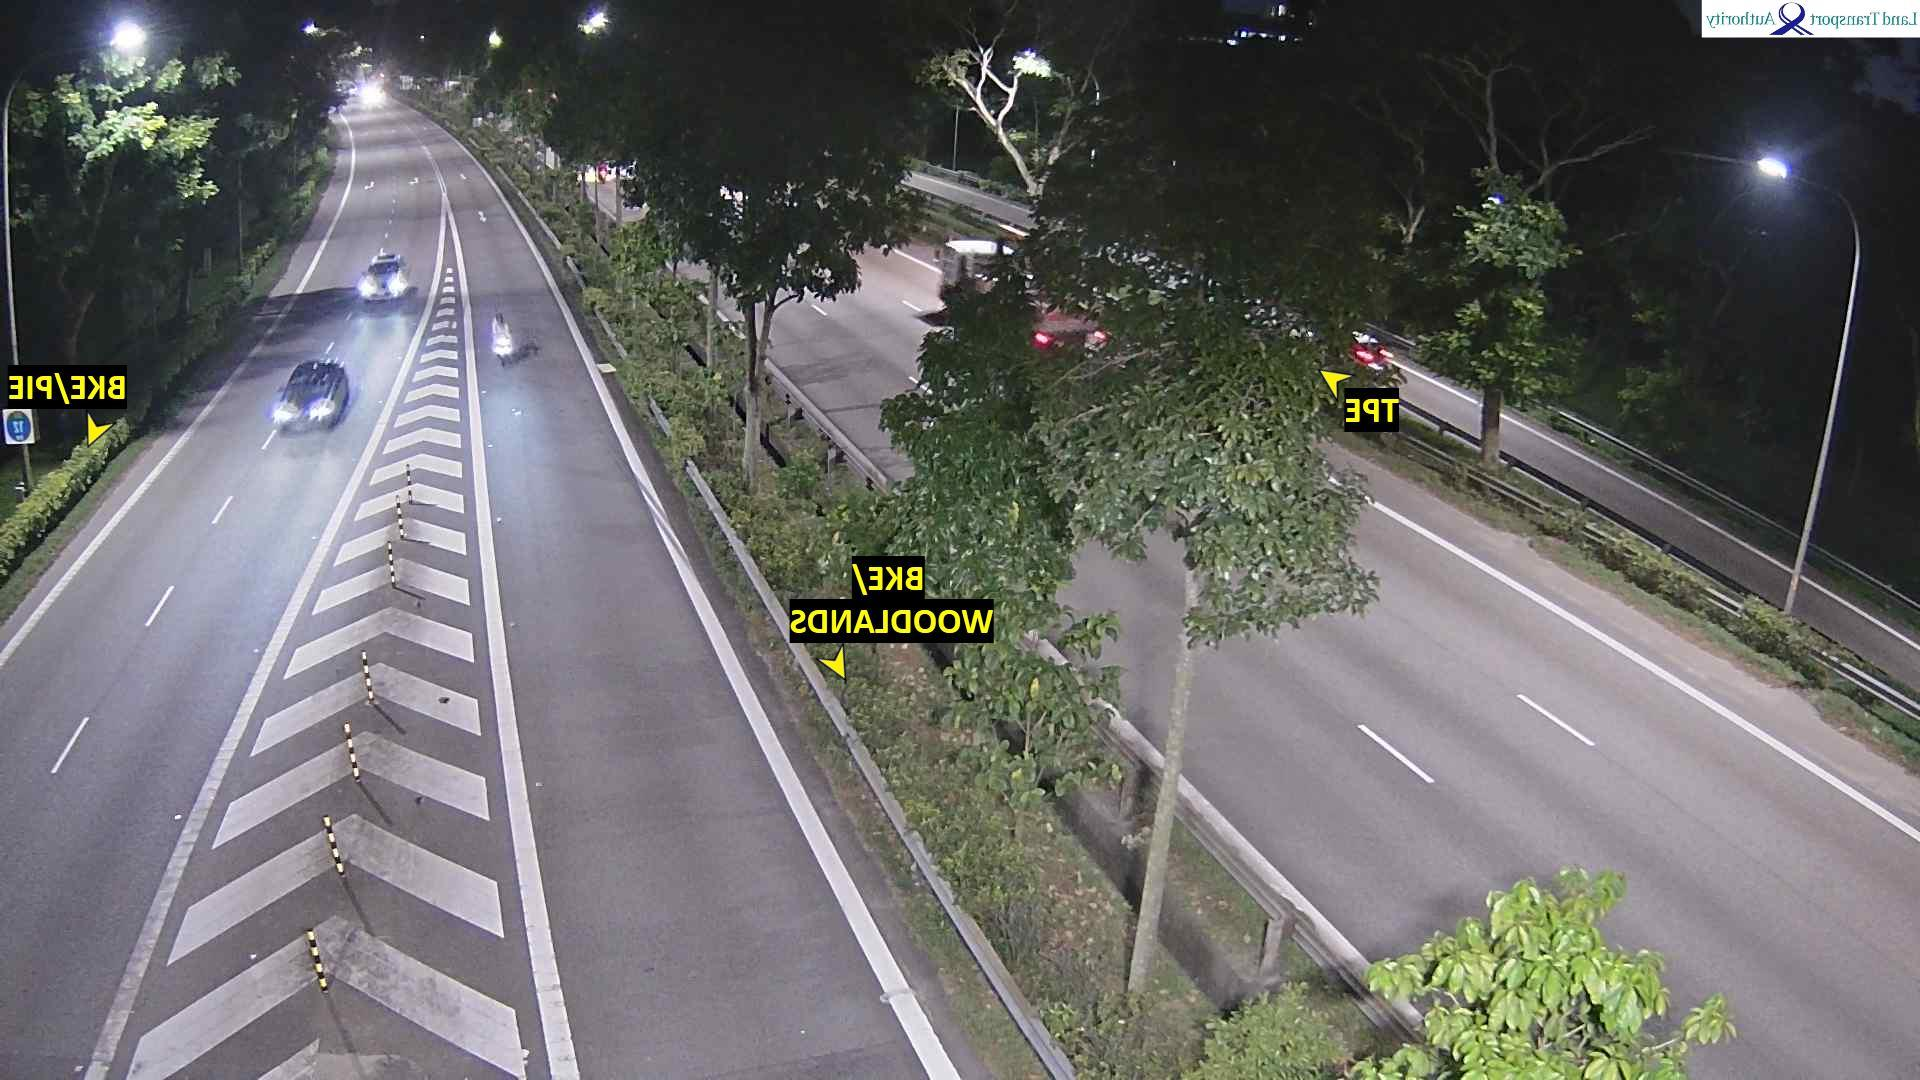cars: (272, 356, 352, 433), (1030, 299, 1109, 357), (358, 248, 412, 303), (332, 62, 388, 111), (358, 79, 388, 110)
motorcycle: (491, 311, 516, 366)
